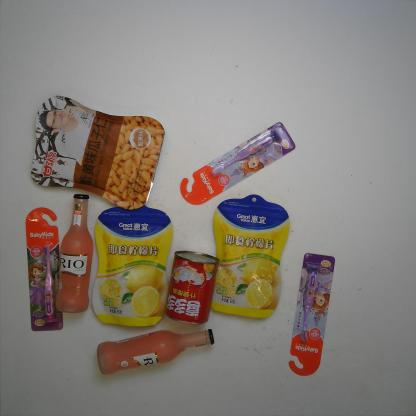Alcohol: (94, 327, 218, 377), (54, 192, 97, 315)
Canned Food: (162, 249, 224, 326)
Dried Fruit: (24, 92, 167, 212), (90, 196, 175, 334), (204, 192, 292, 322)
Personal Hygiene: (179, 121, 297, 207), (22, 206, 74, 335), (286, 251, 338, 378)
